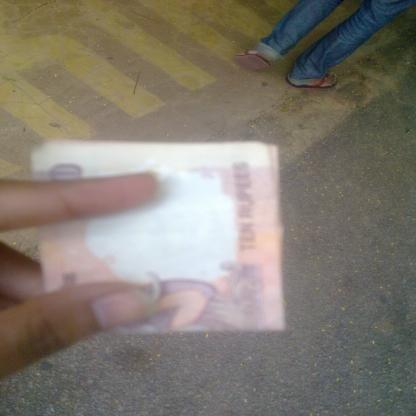Old10Back: (32, 139, 286, 335)
